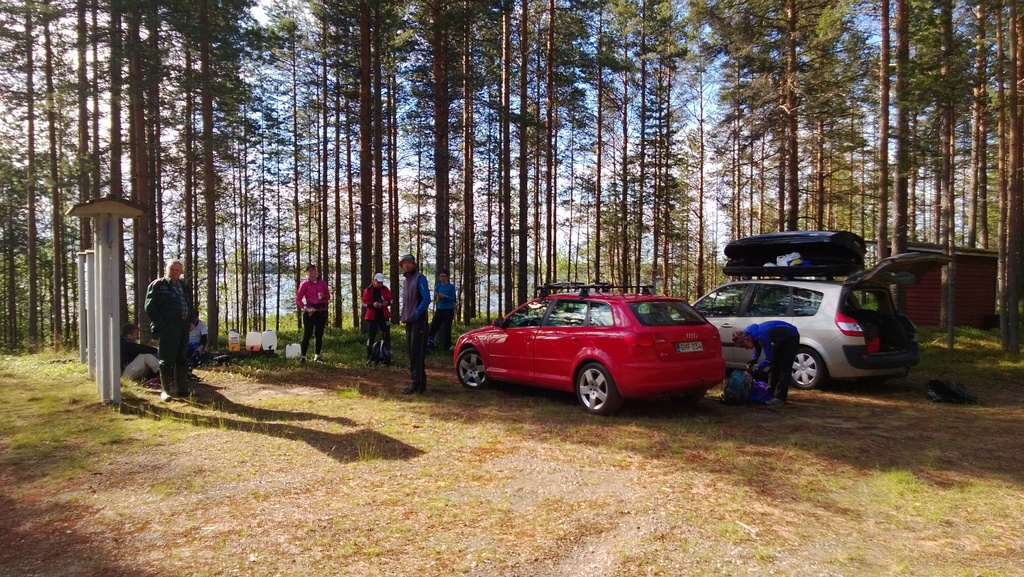cars: (671, 250, 953, 389), (452, 282, 723, 413)
